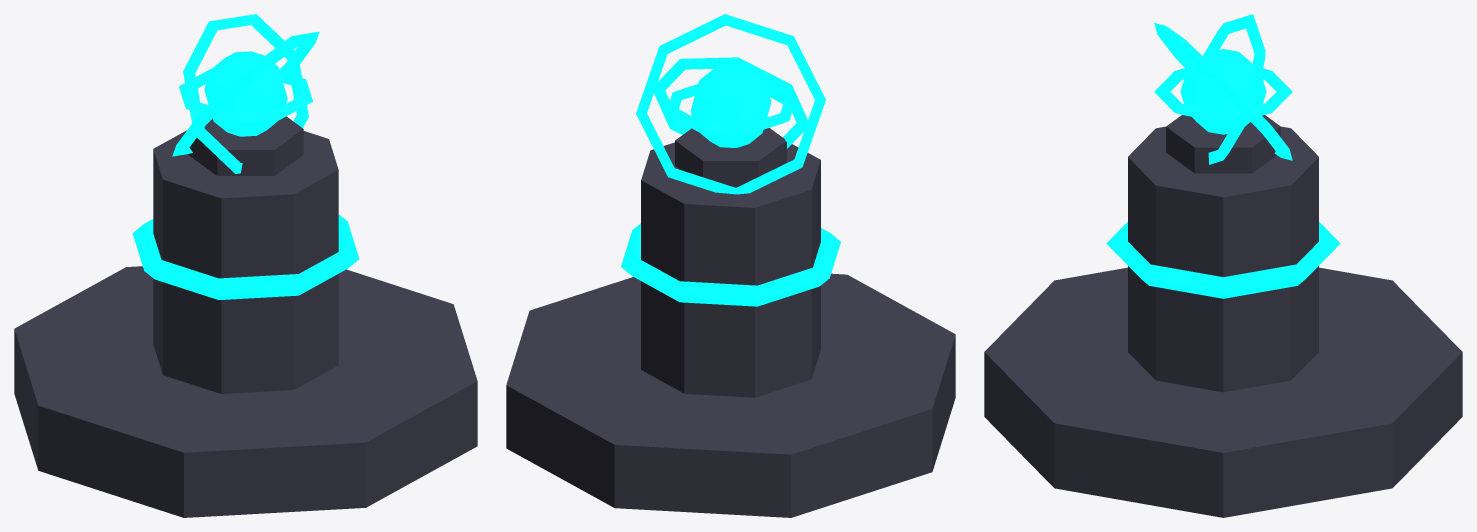
File: tower_pulse.glb
3 renders of one model, left to right at view 1: azimuth 30°, elevation 25°; view 2: azimuth 150°, elevation 25°; view 3: azimuth 270°, elevation 25°, orthographic. The views are drawn at different scales.
Parts seen in each view (by area): view 1: tower_pulse; view 2: tower_pulse; view 3: tower_pulse.
Part boxes in pixels (box(x1,y1,x2,y2)): tower_pulse: box(14, 14, 477, 517); tower_pulse: box(506, 14, 955, 517); tower_pulse: box(984, 14, 1462, 517).
Bounding box in the file's own units: 1 × 0.9112 × 1.
